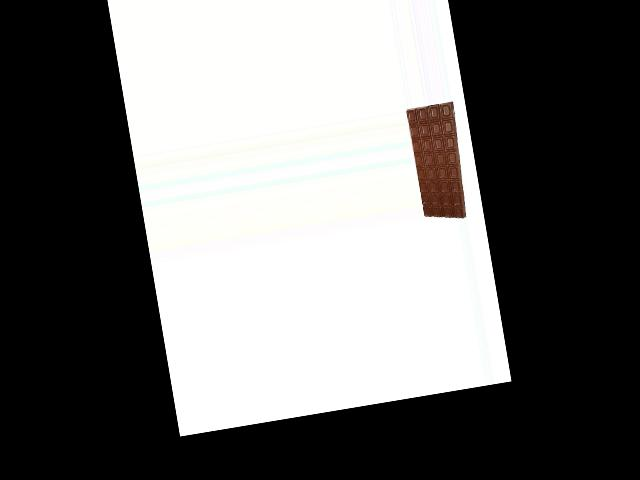chocolate: (405, 100, 471, 225)
